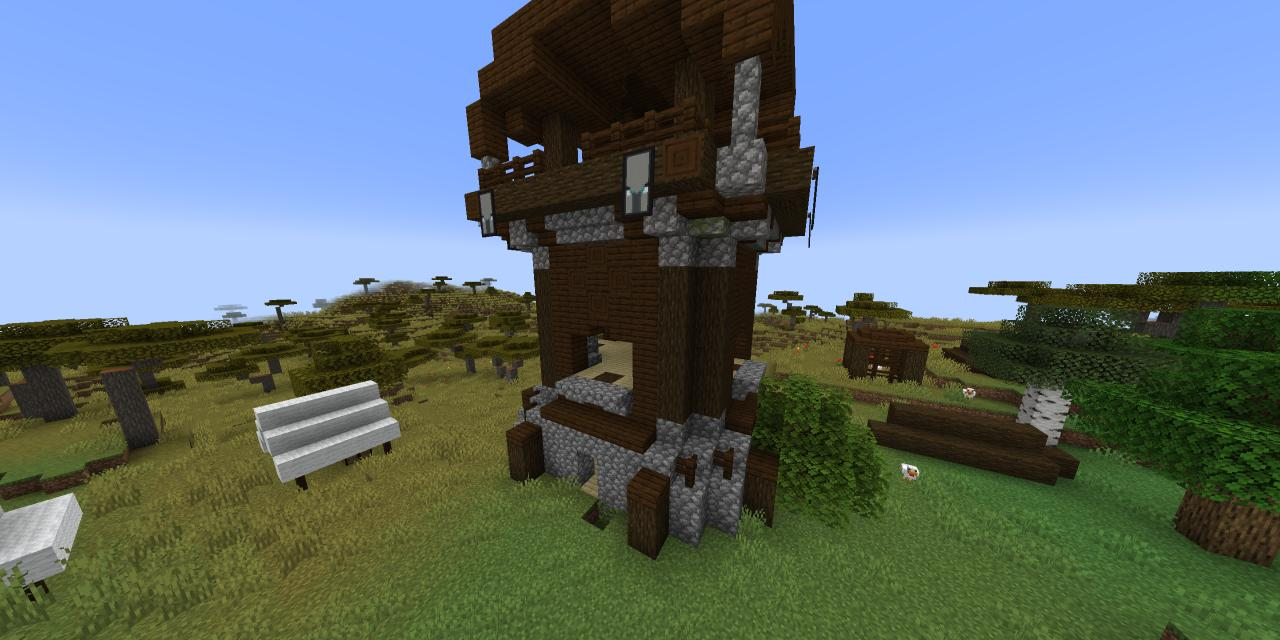pillager outpost: (432, 0, 834, 570)
